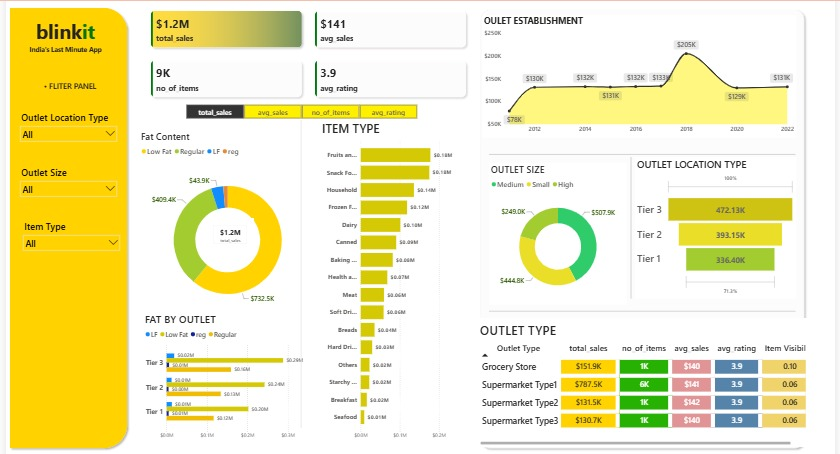

The dashboard page shown, as its layout file describes it:
{"tool":"powerbi","page":{"name":"Page 1","canvas":[2035,1228],"ordinal":0},"visuals":[{"type":"shape","box":[0,88.4,307,1100.3],"z":0},{"type":"textbox","box":[31.9,117.9,228.4,93.3],"z":1000},{"type":"textbox","box":[17.2,184.2,257.9,51.6],"z":2000},{"type":"cardVisual","fields":{"Data":["Table.total_sales","Table.avg_sales","Table.no_of_items","Table.avg_rating"]},"box":[326.6,76.1,832.6,270.2],"z":3000},{"type":"shape","box":[1156.8,93.3,812.9,1095.4],"z":4000},{"type":"donutChart","title":" Fat Content","fields":{"Y":["Table.total_sales"],"Category":["BlinkIT Grocery Data.Item Fat Content"]},"box":[326.8,398.7,435.8,477.5],"z":5000},{"type":"slicer","fields":{"Values":["metrix.metrix"]},"box":[418.6,329.1,616,44.8],"z":6000},{"type":"cardVisual","fields":{"Data":["Table.total_sales"]},"box":[492.3,613.4,118.5,81.6],"z":7000},{"type":"clusteredBarChart","title":"FAT BY  OUTLET","fields":{"Y":["Table.total_sales"],"Category":["BlinkIT Grocery Data.Outlet Location Type"],"Series":["BlinkIT Grocery Data.Item Fat Content"]},"box":[336.5,844.9,415.1,321.7],"z":8000},{"type":"shape","box":[584.1,373.2,280.5,755.7],"z":9000},{"type":"barChart","title":"ITEM TYPE","fields":{"Y":["Table.total_sales"],"Category":["BlinkIT Grocery Data.Item Type"]},"box":[771.2,373.3,348.8,793.3],"z":10000},{"type":"lineChart","title":"OULET ESTABLISHMENT","fields":{"Y":["Table.total_sales"],"Category":["BlinkIT Grocery Data.Outlet Establishment Year"]},"box":[1168.3,115.9,771.9,301.3],"z":11000},{"type":"shape","box":[1186.8,435.8,753.3,46.4],"z":12000},{"type":"donutChart","title":"OUTLET SIZE","fields":{"Y":["Table.total_sales"],"Category":["BlinkIT Grocery Data.Outlet Size"]},"box":[1186.8,479.8,338.4,347.7],"z":13000},{"type":"shape","box":[1516,463.6,39.4,347.7],"z":14000},{"type":"funnel","title":"OUTLET LOCATION TYPE","fields":{"Y":["Sum(BlinkIT Grocery Data.Sales)"],"Category":["BlinkIT Grocery Data.Outlet Location Type"]},"box":[1543.8,463.6,396.4,347.7],"z":15000},{"type":"shape","box":[1186.8,811.3,753.3,64.9],"z":16000},{"type":"pivotTable","title":"OUTLET TYPE","fields":{"Rows":["BlinkIT Grocery Data.Outlet Type"],"Values":["Table.total_sales","Table.no_of_items","Table.avg_sales","Table.avg_rating","Avg(BlinkIT Grocery Data.Item Visibility)"]},"box":[1156.8,859.6,812.9,307],"z":17000},{"type":"slicer","fields":{"Values":["BlinkIT Grocery Data.Outlet Location Type"]},"box":[24.6,346.3,257.9,88.4],"z":17001},{"type":"slicer","fields":{"Values":["BlinkIT Grocery Data.Outlet Size"]},"box":[24.6,481.4,257.9,88.4],"z":17002},{"type":"pivotTable","title":"OUTLET TYPE","fields":{"Rows":["BlinkIT Grocery Data.Outlet Type"],"Values":["Table.total_sales","Table.no_of_items","Table.avg_sales","Table.avg_rating","Avg(BlinkIT Grocery Data.Item Visibility)"]},"box":[1159.2,869.4,810.5,307],"z":17003},{"type":"slicer","fields":{"Values":["BlinkIT Grocery Data.Item Type"]},"box":[31.9,614,257.9,88.4],"z":17004},{"type":"textbox","box":[24.6,272.6,250.5,56.5],"z":17005},{"type":"actionButton","box":[0,0,100,40],"z":17006},{"type":"actionButton","box":[0,0,100,40],"z":17007}]}

Visuals, with their boxes on the page's 2035x1228 design canvas (x1, y1, x2, y2). These are canvas units, not pixel positions in the 840x454 screenshot, which may show the page scaled, cropped or inside an application window:
shape: Rect(0, 88, 307, 1189)
textbox: Rect(32, 118, 260, 211)
textbox: Rect(17, 184, 275, 236)
cardVisual - Table.total_sales x Table.avg_sales: Rect(327, 76, 1159, 346)
shape: Rect(1157, 93, 1970, 1189)
" Fat Content" donutChart: Rect(327, 399, 763, 876)
slicer - metrix.metrix: Rect(419, 329, 1035, 374)
cardVisual - Table.total_sales: Rect(492, 613, 611, 695)
"FAT BY  OUTLET" clusteredBarChart: Rect(336, 845, 752, 1167)
shape: Rect(584, 373, 865, 1129)
"ITEM TYPE" barChart: Rect(771, 373, 1120, 1167)
"OULET ESTABLISHMENT" lineChart: Rect(1168, 116, 1940, 417)
shape: Rect(1187, 436, 1940, 482)
"OUTLET SIZE" donutChart: Rect(1187, 480, 1525, 828)
shape: Rect(1516, 464, 1555, 811)
"OUTLET LOCATION TYPE" funnel: Rect(1544, 464, 1940, 811)
shape: Rect(1187, 811, 1940, 876)
"OUTLET TYPE" pivotTable: Rect(1157, 860, 1970, 1167)
slicer - BlinkIT Grocery Data.Outlet Location Type: Rect(25, 346, 282, 435)
slicer - BlinkIT Grocery Data.Outlet Size: Rect(25, 481, 282, 570)
"OUTLET TYPE" pivotTable: Rect(1159, 869, 1970, 1176)
slicer - BlinkIT Grocery Data.Item Type: Rect(32, 614, 290, 702)
textbox: Rect(25, 273, 275, 329)
actionButton: Rect(0, 0, 100, 40)
actionButton: Rect(0, 0, 100, 40)
